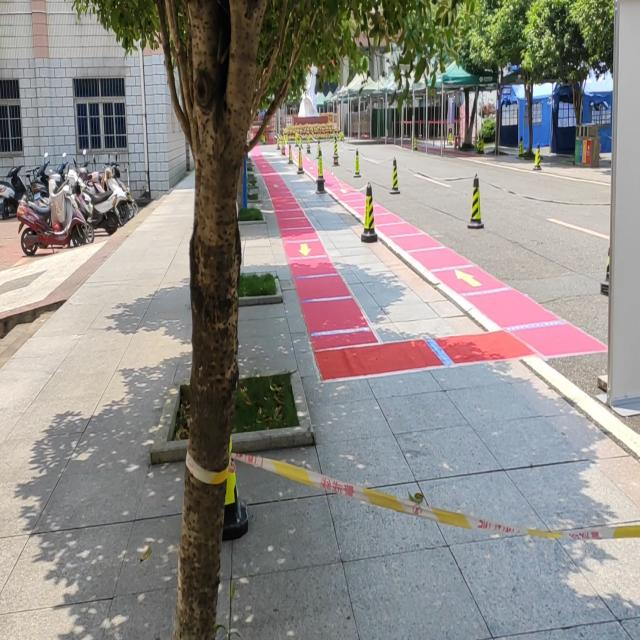ash bin: (574, 121, 601, 168)
motorbike: (16, 163, 95, 255)
reflective_cone: (359, 181, 378, 243), (466, 171, 484, 228), (388, 156, 401, 194), (315, 146, 325, 182), (532, 141, 542, 170), (353, 146, 360, 178), (296, 146, 304, 173), (332, 134, 339, 158), (287, 144, 294, 164)
